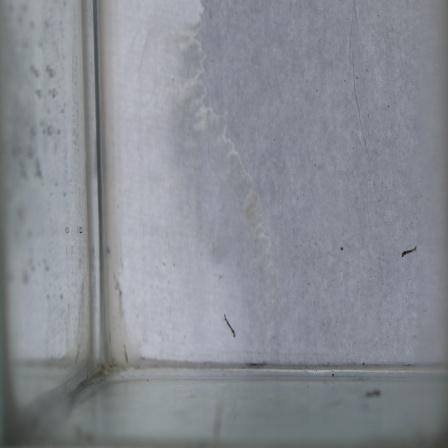Jentik-Nyamuk: (218, 309, 244, 345), (393, 238, 421, 264)
